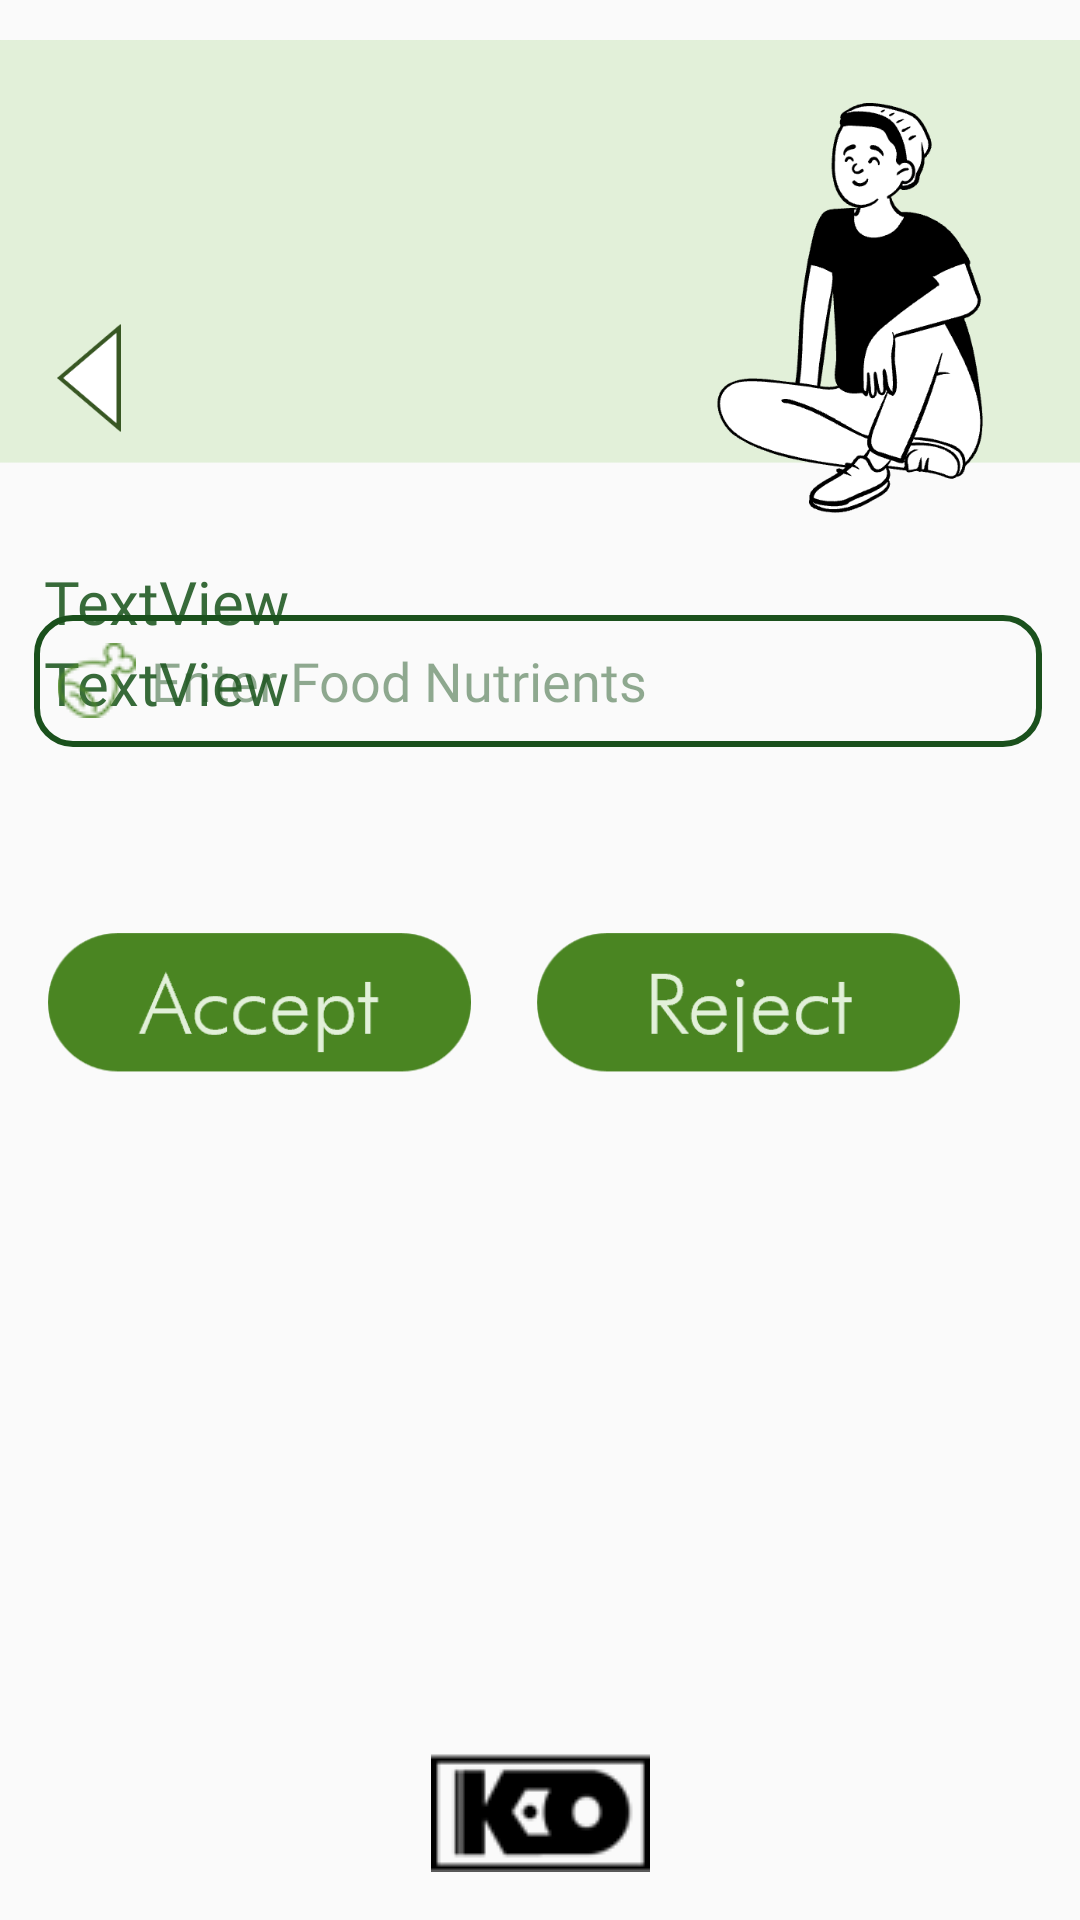

Icons on this 1080 x 1920 Android screen, each with the point to tap as point (x, y):
back: point (89, 378)
